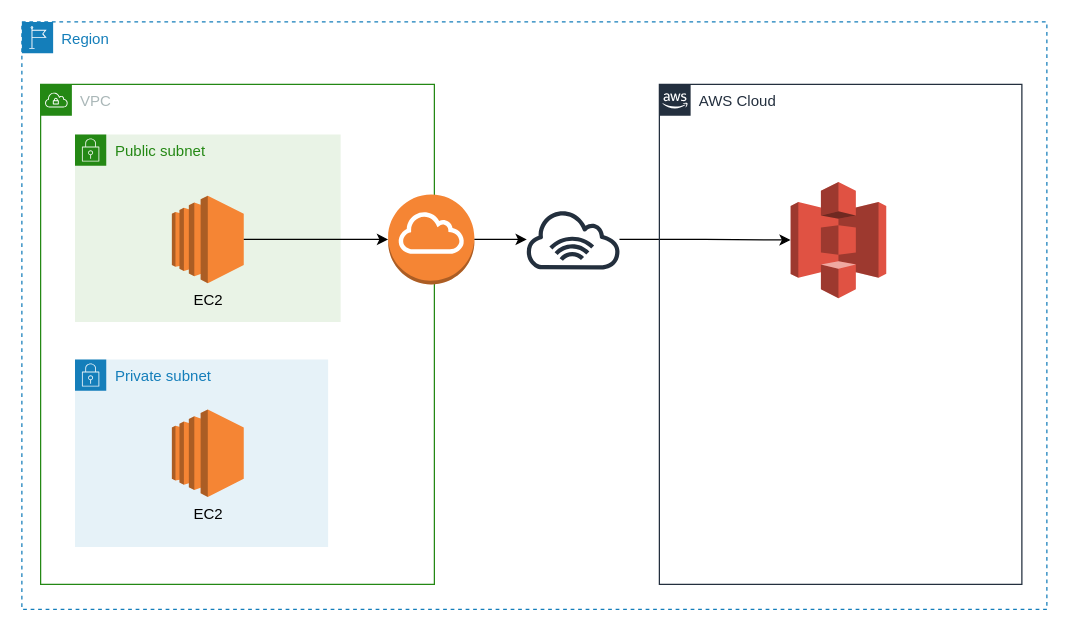
Some shapes in this 1069 by 631 pixel diagram are drawn without their labels. The shapes that lost their labels are listed below. From the top down, each one's centre as x and y in pixels, then its label:
point (430, 238): Internet Gateway
point (572, 239): Internet
point (837, 239): S3
